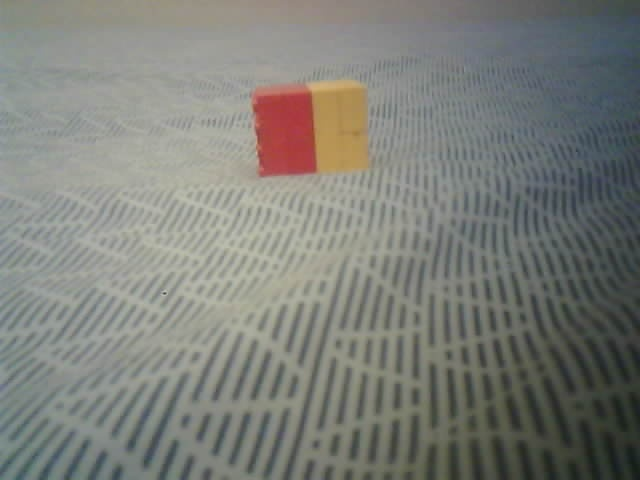lego: (250, 78, 373, 178)
